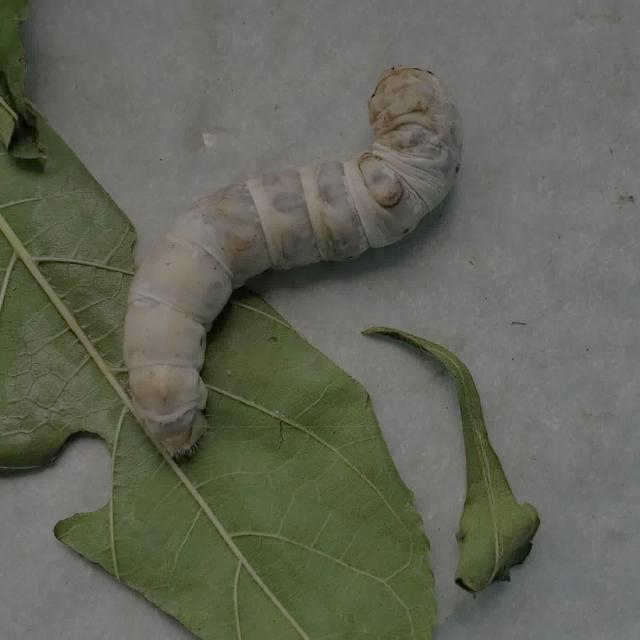Grasserie: (104, 35, 496, 472)
